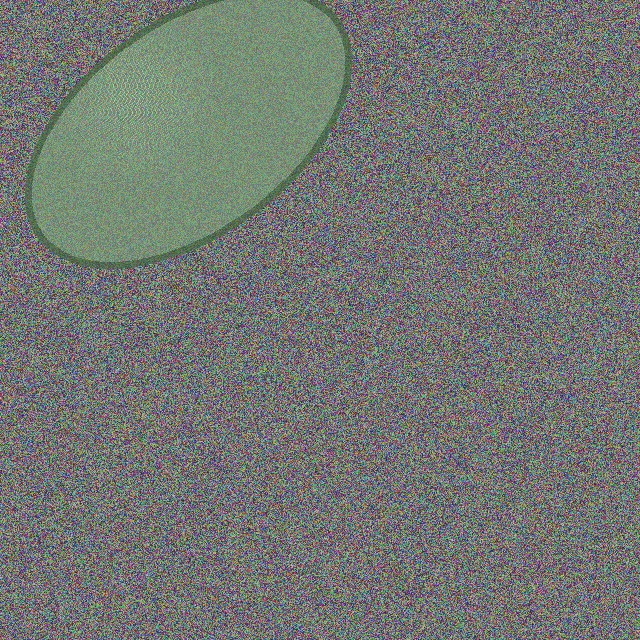lens: (29, 0, 347, 264)
